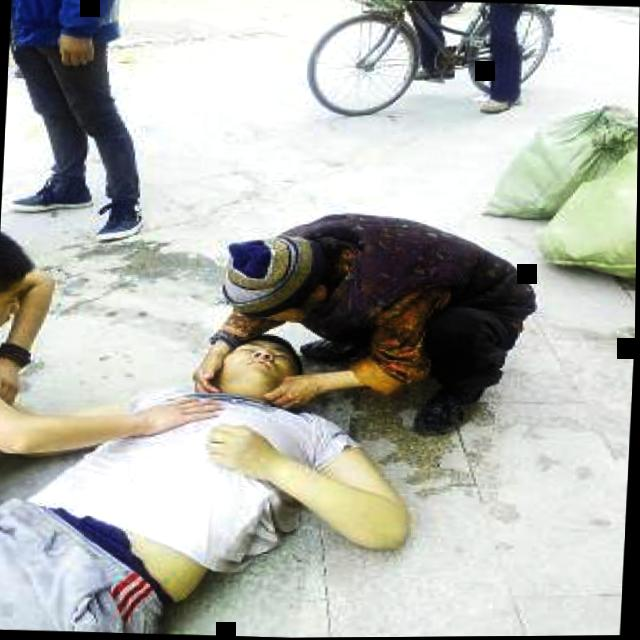Fall-Detected: (0, 306, 431, 640)
